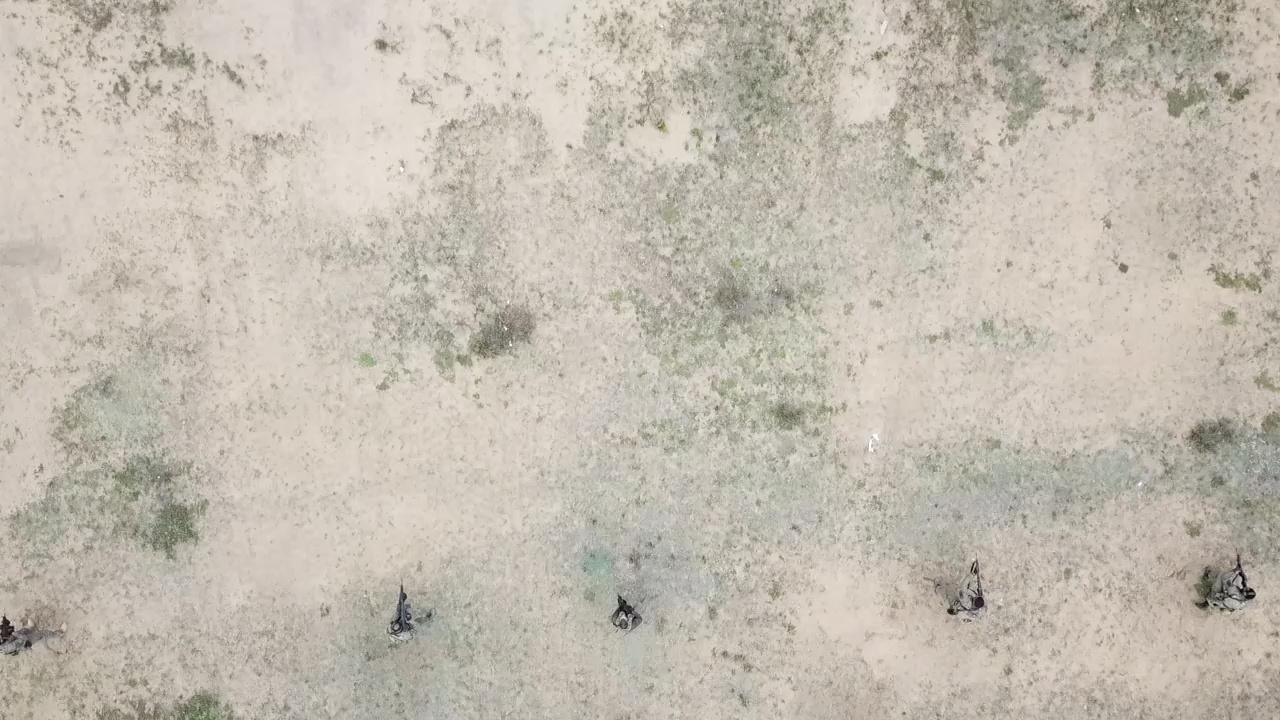Soldier: (925, 541, 997, 628), (384, 572, 440, 658), (604, 576, 658, 638)
